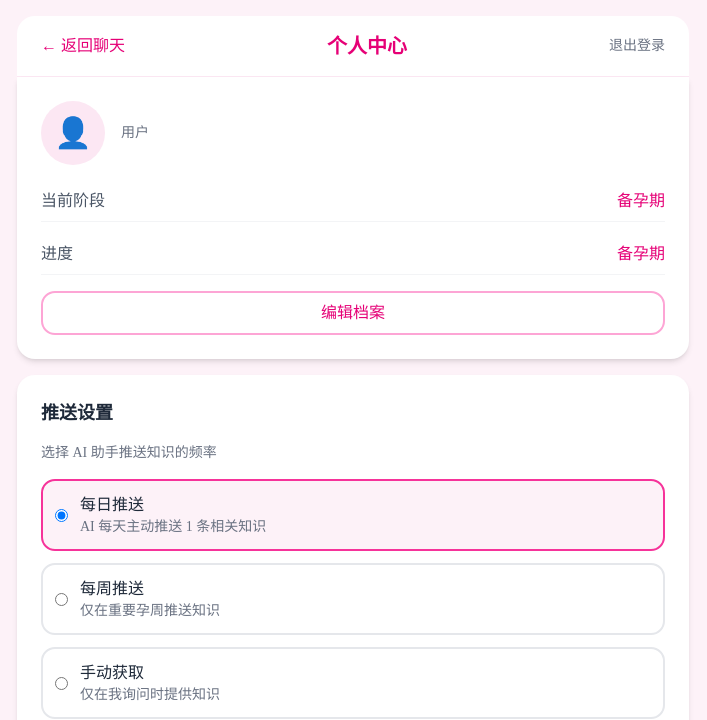
Test case: ProfilePage › 网络错误处理 › API返回错误时显示错误提示
This screenshot has width=707, height=720.
Click the button "编辑档案". click: (353, 313)
box: x1=41 y1=291 x2=665 y2=335
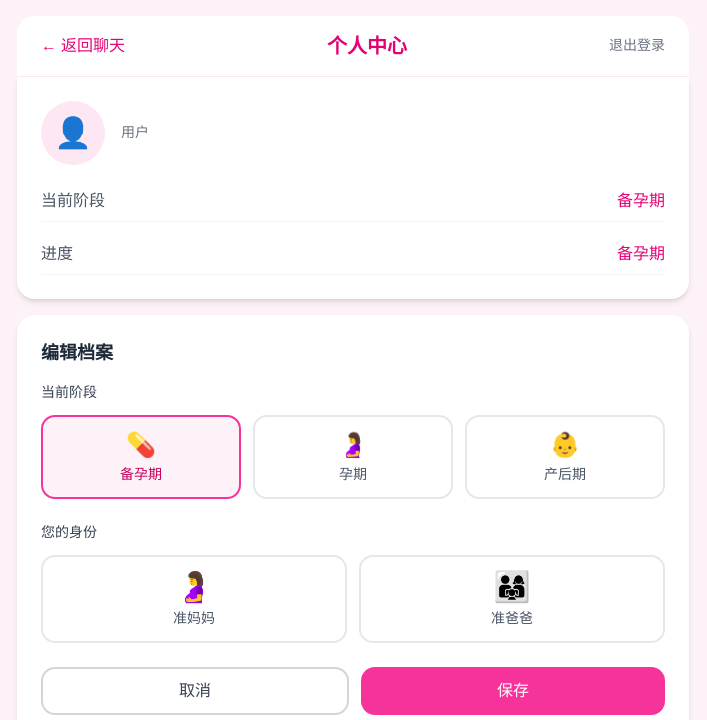
Click the button "保存". click: (513, 691)
box: x1=361 y1=667 x2=665 y2=715
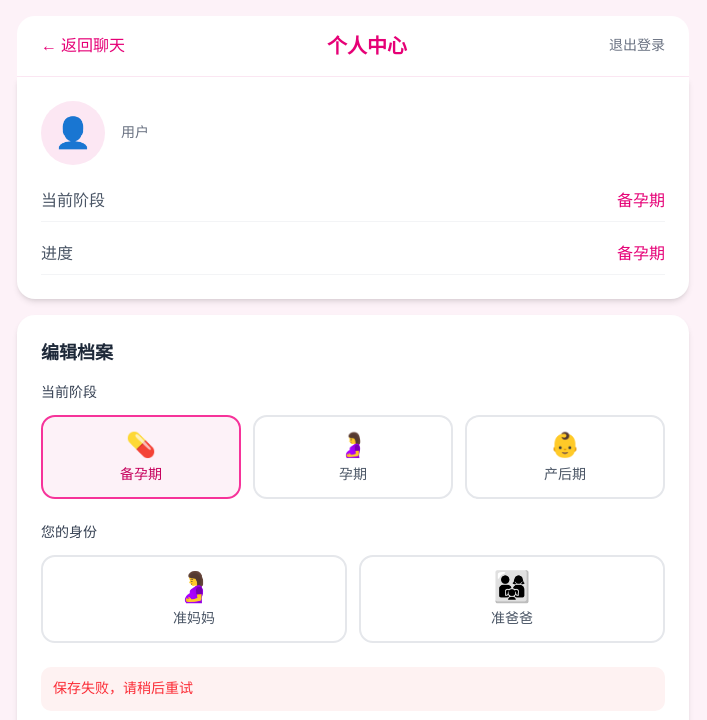
Expected: the text "保存失败，请稍后重试" is shown, x1=41 y1=667 x2=665 y2=711
